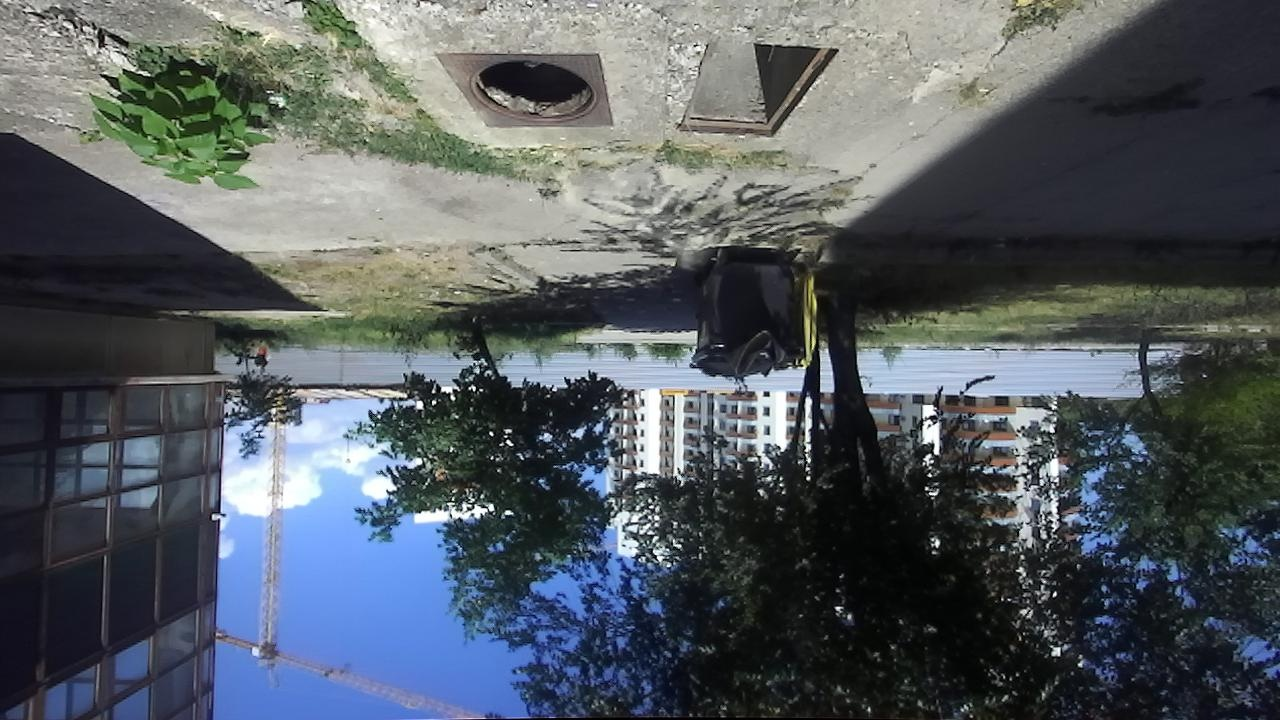drain: (673, 42, 840, 142), (464, 56, 597, 125)
